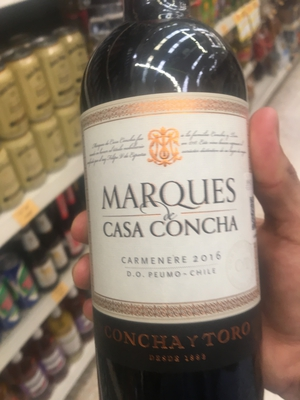marques de casa concha carmenere: (74, 1, 273, 390)
